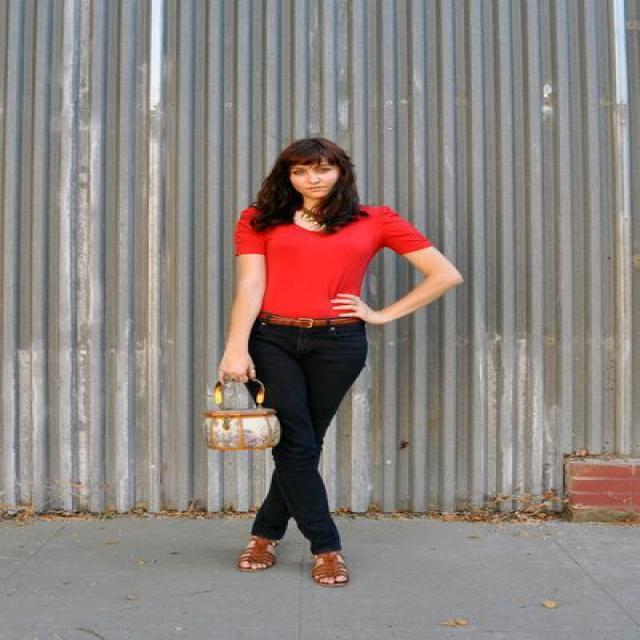bag: (205, 380, 278, 460)
pants: (248, 320, 366, 554)
shirt: (234, 205, 431, 319)
shoe: (240, 524, 347, 586)
